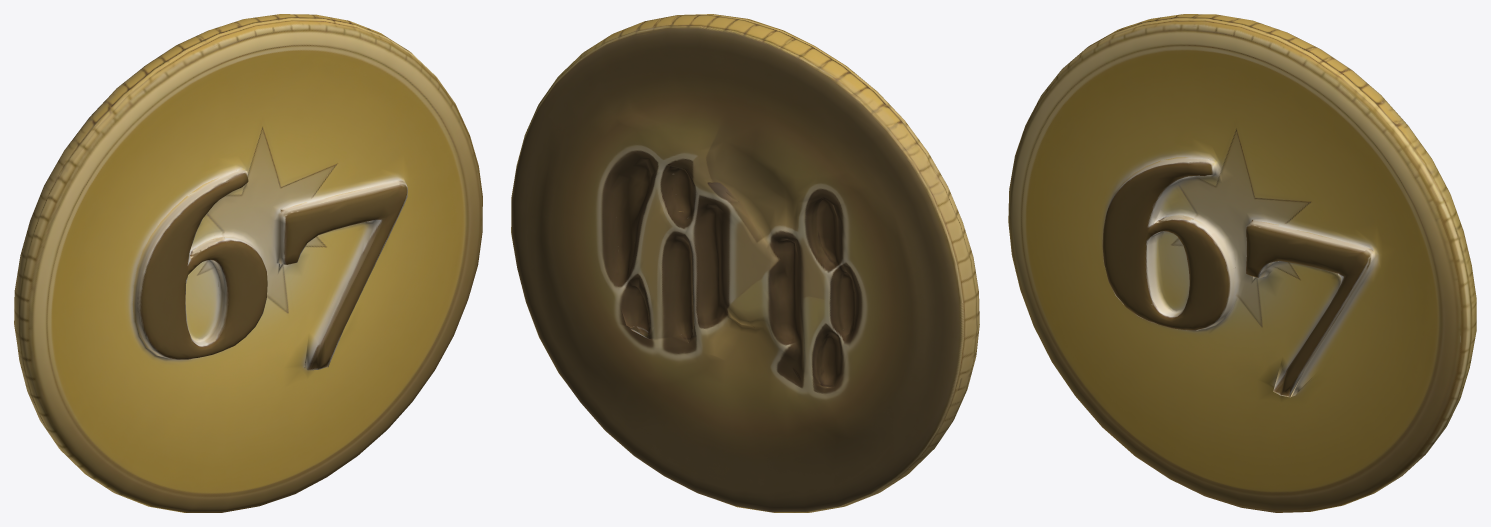
The model's file is jump-coin-3d-model-gold.glb.
The picture shows the model from 3 angles, left to right: view 1: azimuth 30°, elevation 25°; view 2: azimuth 150°, elevation 25°; view 3: azimuth 330°, elevation 25°; orthographic projection.
Bounding box in the file's own units: 1.91 × 1.92 × 0.2279.
1 material, 1 textured.
